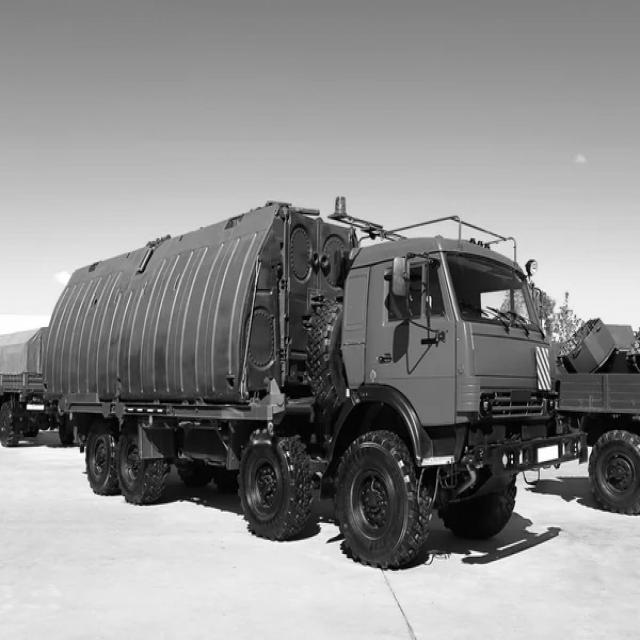Truck: (44, 199, 588, 569)
